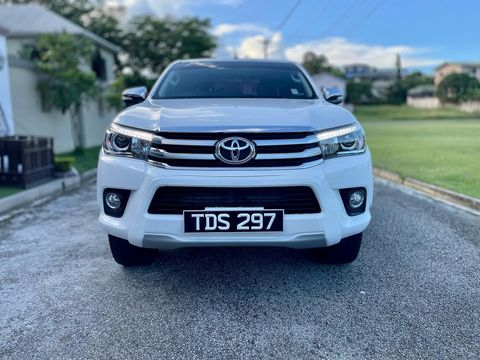License-Plate: (184, 210, 283, 232)
